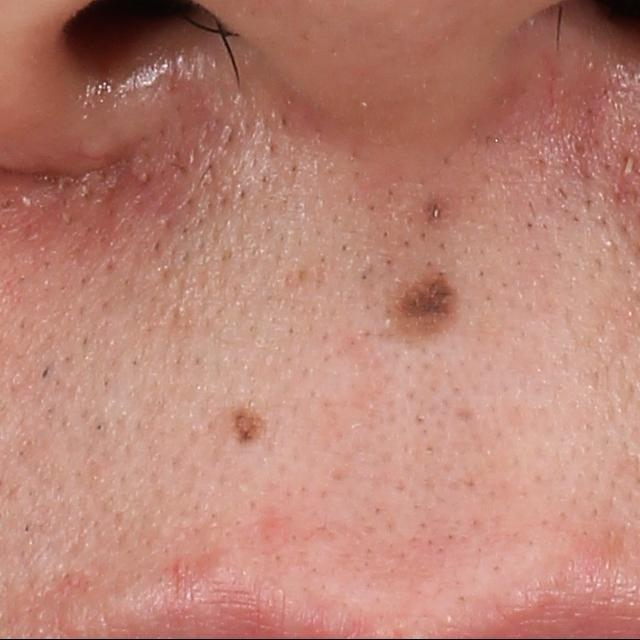nevus: (391, 269, 463, 334), (420, 187, 461, 228), (231, 406, 266, 447)
